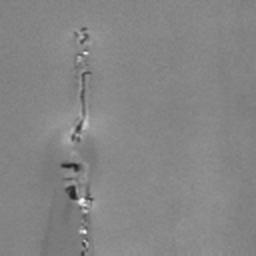Slag inclusion: (68, 24, 97, 146), (60, 160, 96, 256)
